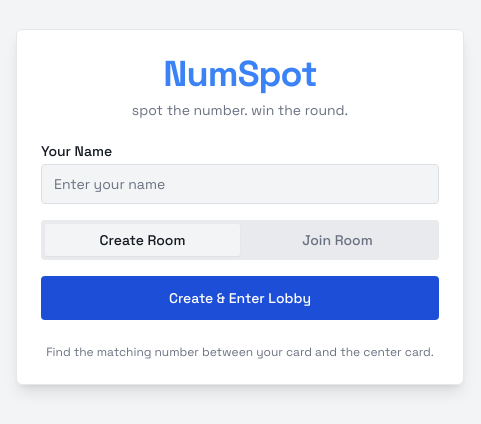
Test: Home page › name validation › shows error when name contains invalid characters
Type "abc<>" into the field labelled "Your Name". click: (240, 184)
box: [41,164,439,204]
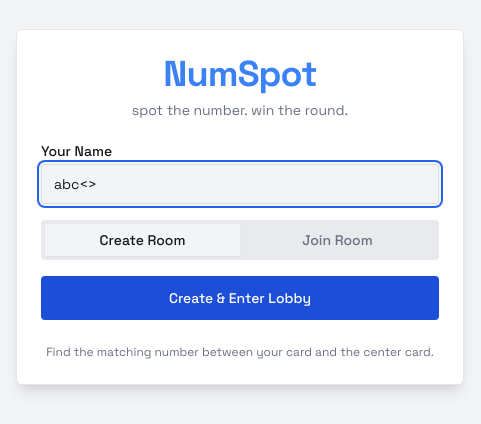
Click the button "Create & Enter Lobby". click: click(240, 298)
box: [41,276,439,320]
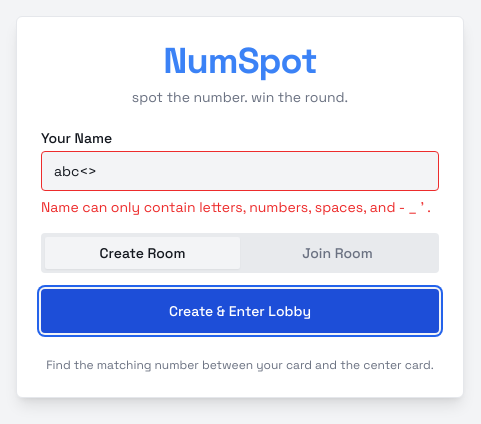
Expected: the text "Name can only contain letters, numbers, spaces, and - _ ' ." is shown, [41,197,439,217]
